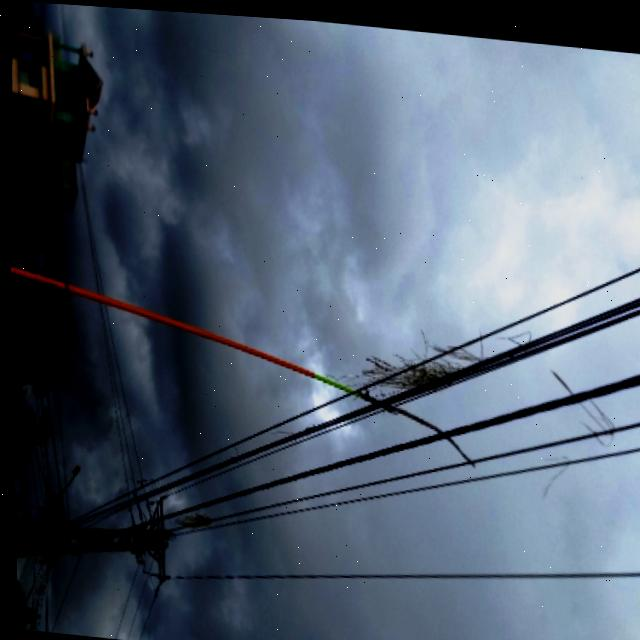obstruction: (350, 308, 527, 394), (544, 354, 612, 429), (169, 508, 212, 533)
poles: (12, 486, 172, 601)
wires: (167, 386, 610, 523), (69, 371, 368, 527), (483, 239, 640, 367), (166, 557, 638, 593), (602, 360, 640, 460)
